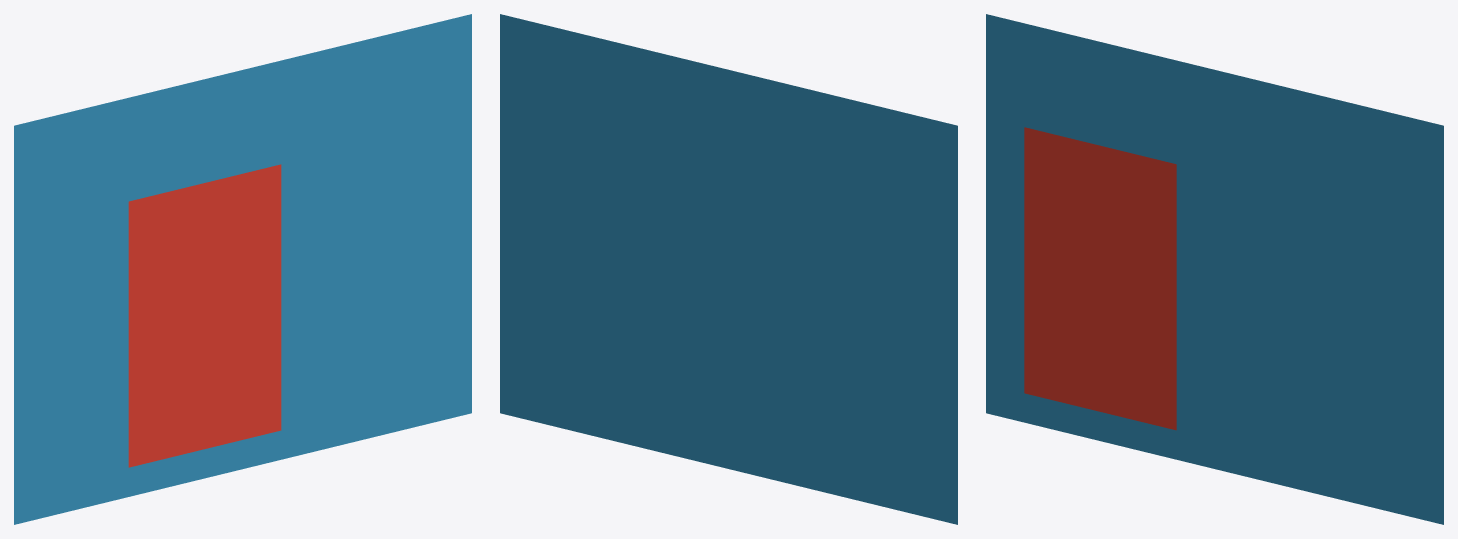
File: alpha-mask.gltf
The picture shows the model from 3 angles, left to right: view 1: azimuth 30°, elevation 25°; view 2: azimuth 150°, elevation 25°; view 3: azimuth 330°, elevation 25°; orthographic projection.
Bounding box in the file's own units: 9 × 7.5 × 1.3.
Materials: 2 (1 with a texture image).
